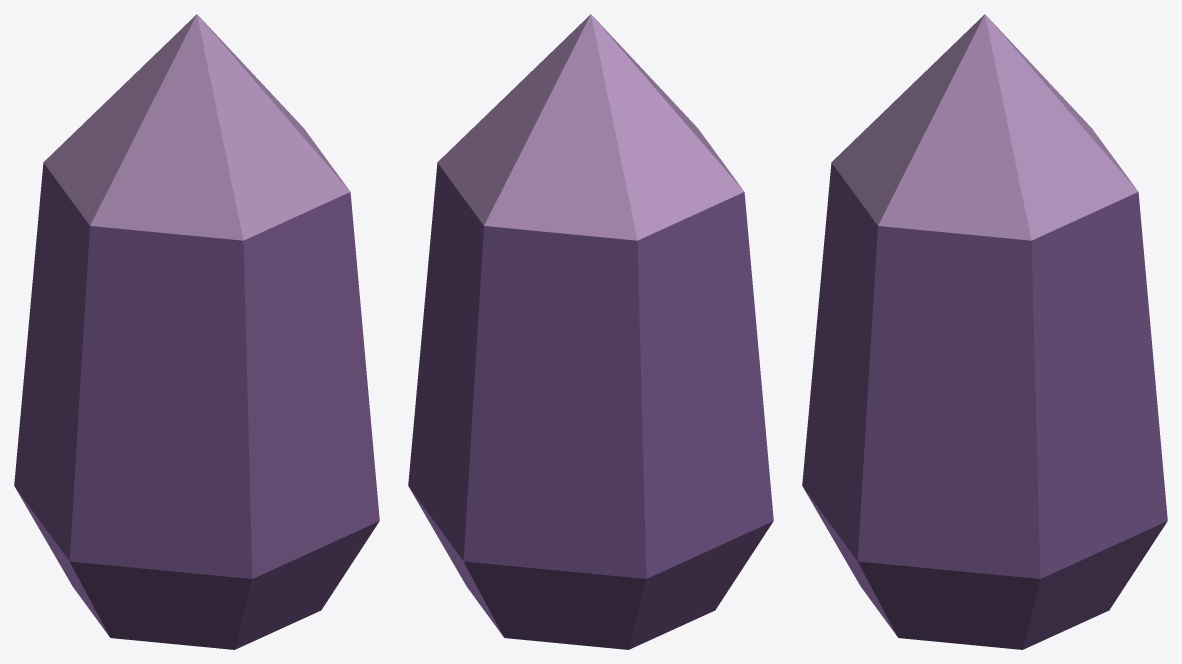
Rendered from item_crystal_amethyst.glb.
3 views of the same model, side by side, from view 1: azimuth 30°, elevation 25°; view 2: azimuth 150°, elevation 25°; view 3: azimuth 270°, elevation 25° (orthographic).
Visible parts, largest first — view 1: item_crystal_amethyst; view 2: item_crystal_amethyst; view 3: item_crystal_amethyst.
Boxes of the visible parts, bbox=[...] form: item_crystal_amethyst: bbox=[14, 14, 379, 649]; item_crystal_amethyst: bbox=[408, 14, 773, 649]; item_crystal_amethyst: bbox=[802, 14, 1167, 649].
Size of the model in its own units: 0.2388 by 0.43 by 0.2438.
